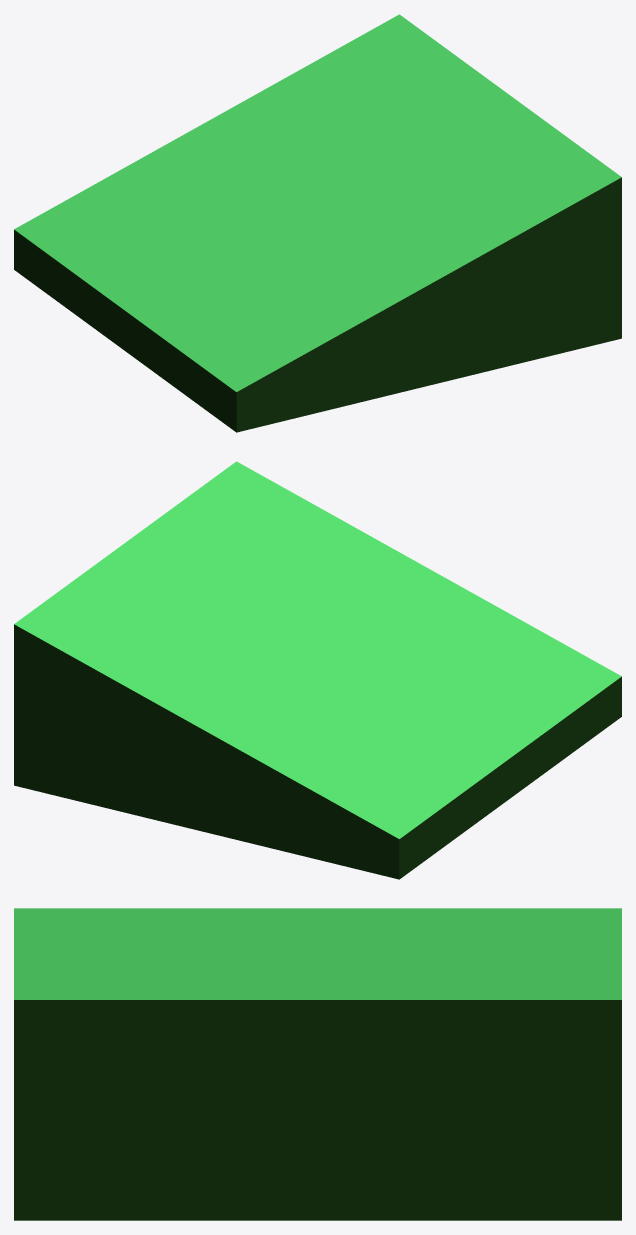
Rendered from MG Raised 2.fbx.
3 views of the same model, one above another, from view 1: azimuth 30°, elevation 25°; view 2: azimuth 150°, elevation 25°; view 3: azimuth 270°, elevation 25° (orthographic). The views are drawn at different scales.
Visible parts, largest first — view 1: MG Raised 2; view 2: MG Raised 2; view 3: MG Raised 2.
Boxes of the visible parts, <box> form: MG Raised 2: <box>14,14,621,432</box>; MG Raised 2: <box>14,461,621,879</box>; MG Raised 2: <box>14,908,621,1220</box>.
Bounding box in the file's own units: 200 × 80 × 200.
